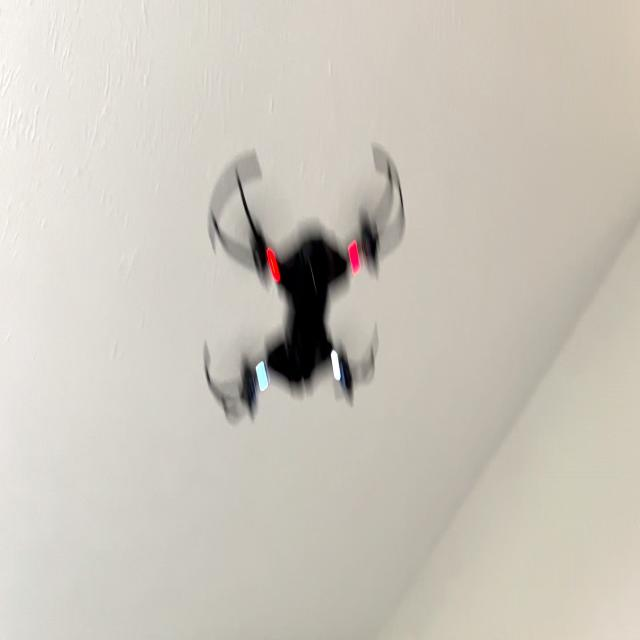drone: (191, 126, 415, 448)
